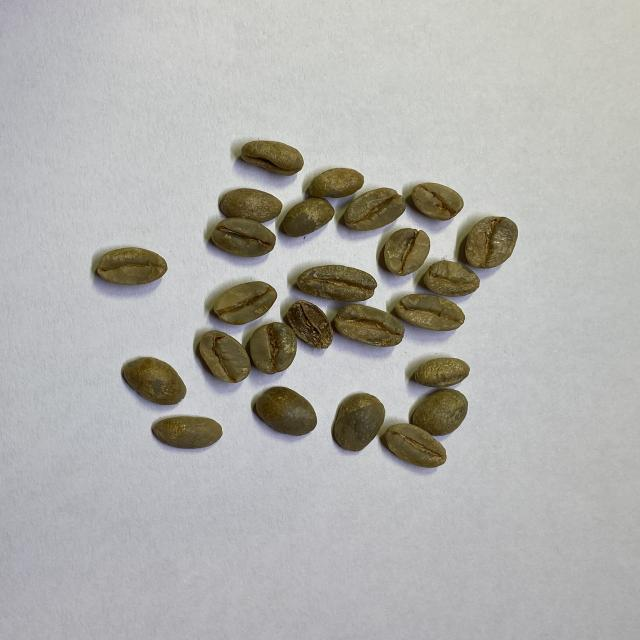bad: (288, 301, 333, 351), (422, 260, 481, 298)
good: (122, 356, 187, 406), (332, 392, 386, 452), (254, 386, 318, 436), (334, 304, 405, 347), (296, 264, 377, 301), (382, 423, 447, 469), (213, 280, 278, 324), (199, 330, 251, 384), (396, 293, 466, 333), (466, 216, 518, 269), (96, 247, 168, 285), (344, 188, 407, 230), (412, 389, 468, 435), (212, 218, 276, 258), (249, 321, 297, 374), (240, 139, 304, 177), (150, 416, 222, 449), (384, 228, 431, 276), (219, 188, 282, 223), (281, 198, 334, 238), (411, 181, 464, 221), (411, 357, 471, 387), (309, 168, 365, 198)
